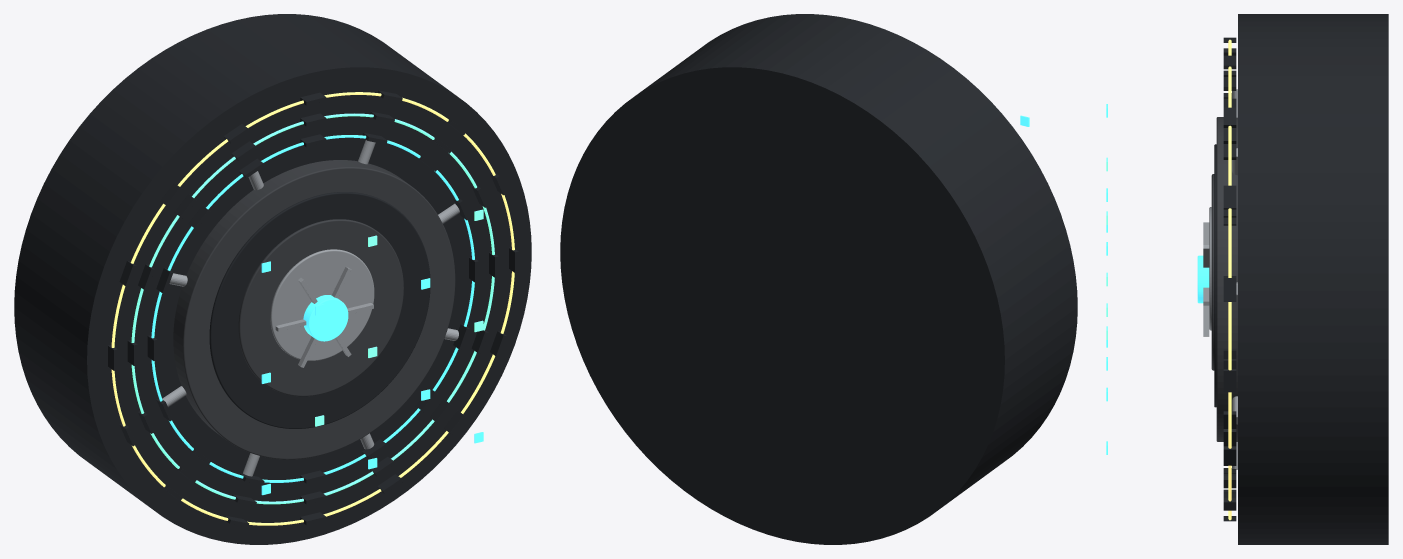
The model's file is security_vault.glb.
The picture shows the model from 3 angles, left to right: view 1: azimuth 30°, elevation 25°; view 2: azimuth 150°, elevation 25°; view 3: azimuth 270°, elevation 25°; orthographic projection. The views are drawn at different scales.
Visible parts, largest first — view 1: Chamber, VaultDisc_0, VaultDisc_1, VaultDisc_2, VaultDisc_3, Layer_Withdrawal, Layer_AccountShield, Layer_Encryption, SealHub; view 2: Chamber; view 3: Chamber, VaultDisc_0, Layer_Withdrawal, VaultDisc_1, VaultDisc_2, SealHub, VaultDisc_3.
Part boxes in pixels (box(x1,y1,x2,y2)): Chamber: box(14, 14, 531, 544); VaultDisc_0: box(173, 160, 455, 459); VaultDisc_1: box(209, 192, 430, 428); VaultDisc_2: box(238, 219, 403, 396); VaultDisc_3: box(270, 249, 374, 360); Layer_Withdrawal: box(111, 92, 514, 525); Layer_AccountShield: box(131, 113, 494, 504); Layer_Encryption: box(151, 135, 474, 482); SealHub: box(303, 295, 348, 341); Chamber: box(560, 14, 1077, 544); Chamber: box(1238, 14, 1388, 544); VaultDisc_0: box(1216, 117, 1237, 441); Layer_Withdrawal: box(1228, 39, 1231, 520); VaultDisc_1: box(1214, 144, 1216, 407); VaultDisc_2: box(1211, 174, 1214, 370); SealHub: box(1197, 255, 1209, 303); VaultDisc_3: box(1209, 207, 1211, 330).
Bounding box in the file's own units: 6.7 × 6.7 × 3.56.
